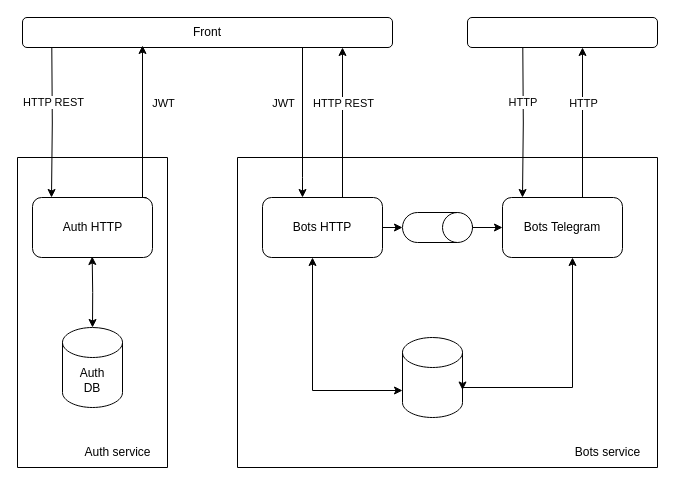
This 675x485 diagram has some shape labels left out. Here are the shapes that lost their labels. From the top down, the centre of each, then its label:
At point (562, 32): "Telegram Bot API".
At point (437, 227): "RabbitMQ".
At point (432, 377): "Bots DB".
